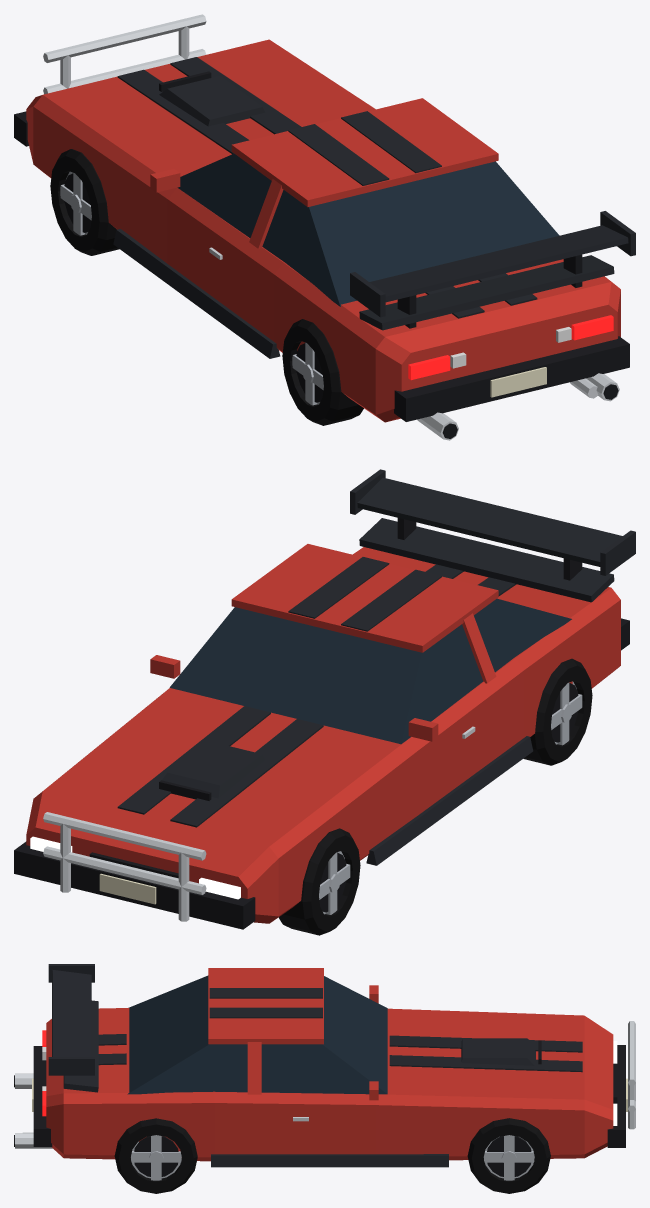
File: muscle.glb
The picture shows the model from 3 angles, top to bottom: view 1: azimuth 30°, elevation 25°; view 2: azimuth 150°, elevation 25°; view 3: azimuth 270°, elevation 25°; orthographic projection. The views are drawn at different scales.
Parts seen in each view (by area): view 1: muscle_Top, muscle_Body, muscle_Mod_Spoiler2, muscle_Mod_Spoiler1, muscle_Wheel_RL, muscle_Wheel_FL, muscle_Mod_Bullbar, muscle_Mod_Scoop, muscle_Mod_Skirts, muscle_Mod_Exhaust; view 2: muscle_Top, muscle_Body, muscle_Mod_Spoiler2, muscle_Mod_Spoiler1, muscle_Wheel_FL, muscle_Mod_Bullbar, muscle_Wheel_RL, muscle_Mod_Scoop, muscle_Mod_Skirts; view 3: muscle_Body, muscle_Top, muscle_Wheel_FR, muscle_Wheel_RR, muscle_Mod_Spoiler2, muscle_Mod_Skirts, muscle_Mod_Scoop, muscle_Mod_Spoiler1, muscle_Mod_Bullbar, muscle_Mod_Exhaust.
Part boxes in pixels (x1=…): muscle_Top: x1=14, y1=57, x2=629, y2=421; muscle_Body: x1=26, y1=39, x2=620, y2=422; muscle_Mod_Spoiler2: x1=350, y1=211, x2=635, y2=328; muscle_Mod_Spoiler1: x1=359, y1=255, x2=614, y2=330; muscle_Wheel_RL: x1=282, y1=319, x2=363, y2=425; muscle_Wheel_FL: x1=50, y1=149, x2=119, y2=255; muscle_Mod_Bullbar: x1=43, y1=14, x2=206, y2=94; muscle_Mod_Scoop: x1=159, y1=71, x2=265, y2=126; muscle_Mod_Skirts: x1=113, y1=229, x2=280, y2=358; muscle_Mod_Exhaust: x1=417, y1=373, x2=619, y2=440; muscle_Top: x1=14, y1=544, x2=629, y2=929; muscle_Body: x1=26, y1=547, x2=620, y2=923; muscle_Mod_Spoiler2: x1=350, y1=469, x2=635, y2=580; muscle_Mod_Spoiler1: x1=359, y1=518, x2=614, y2=602; muscle_Wheel_FL: x1=278, y1=828, x2=360, y2=935; muscle_Mod_Bullbar: x1=43, y1=812, x2=206, y2=921; muscle_Wheel_RL: x1=523, y1=658, x2=592, y2=765; muscle_Mod_Scoop: x1=159, y1=741, x2=264, y2=800; muscle_Mod_Skirts: x1=366, y1=736, x2=533, y2=865; muscle_Body: x1=46, y1=1008, x2=613, y2=1161; muscle_Top: x1=23, y1=968, x2=627, y2=1147; muscle_Wheel_FR: x1=467, y1=1118, x2=550, y2=1193; muscle_Wheel_RR: x1=114, y1=1118, x2=197, y2=1193; muscle_Mod_Spoiler2: x1=48, y1=964, x2=94, y2=1075; muscle_Mod_Skirts: x1=211, y1=1154, x2=448, y2=1167; muscle_Mod_Scoop: x1=461, y1=1038, x2=541, y2=1065; muscle_Mod_Spoiler1: x1=63, y1=1000, x2=98, y2=1092; muscle_Mod_Bullbar: x1=628, y1=1021, x2=635, y2=1129; muscle_Mod_Exhaust: x1=14, y1=1073, x2=52, y2=1148.
Bounding box in the file's own units: 2.14 × 1.38 × 5.38.
